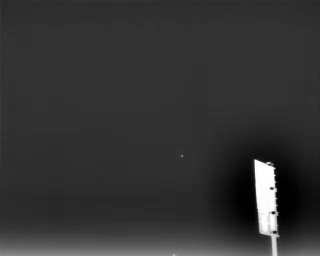BIRD: (179, 152, 186, 160)
